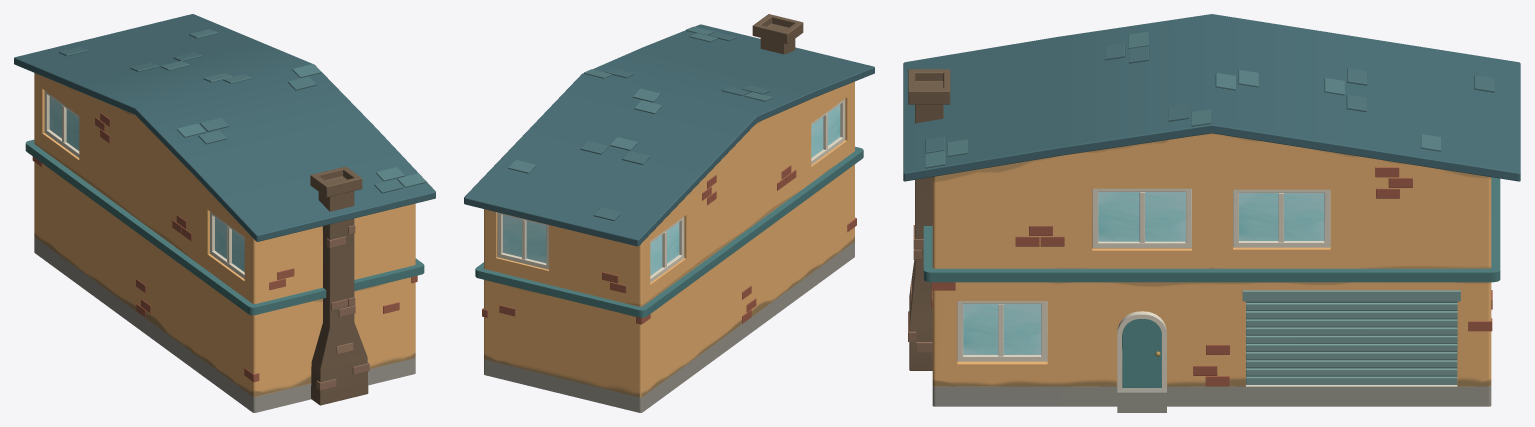
File: HomeS_Repaired_Painted.fbx
3 views of the same model, side by side, from view 1: azimuth 30°, elevation 25°; view 2: azimuth 150°, elevation 25°; view 3: azimuth 270°, elevation 25° (orthographic). The views are drawn at different scales.
Parts seen in each view (by area): view 1: House_01, Roof_01, Chimney_01, Roof tiles_01, House bricks_01, Windows_01, Chimney bricks_01; view 2: House_01, Roof_01, Roof tiles_01, Windows_01, Chimney_01, House bricks_01; view 3: House_01, Roof_01, Garage shutters_01, Windows_01, Chimney_01, Roof tiles_01, House bricks_01, Door_01, Chimney bricks_01.
Part boxes in pixels (box(x1,y1,x2,y2)): House_01: box(25, 73, 424, 412); Roof_01: box(14, 14, 435, 241); Chimney_01: box(310, 166, 368, 405); Roof tiles_01: box(59, 29, 425, 193); House bricks_01: box(32, 112, 417, 382); Windows_01: box(44, 90, 244, 278); Chimney bricks_01: box(316, 225, 369, 390); House_01: box(475, 81, 863, 412); Roof_01: box(464, 24, 874, 246); Roof tiles_01: box(508, 26, 772, 220); Windows_01: box(497, 99, 845, 282); Chimney_01: box(752, 14, 803, 54); House bricks_01: box(482, 165, 856, 324); House_01: box(923, 133, 1500, 412); Roof_01: box(903, 14, 1520, 181); Garage shutters_01: box(1242, 290, 1460, 384); Windows_01: box(957, 188, 1330, 361); Chimney_01: box(908, 69, 950, 370); Roof tiles_01: box(925, 32, 1494, 168); House bricks_01: box(931, 167, 1492, 386); Door_01: box(1122, 319, 1161, 387); Chimney bricks_01: box(908, 225, 932, 352).
Bounding box in the file's own units: 780 × 936 × 1813.
